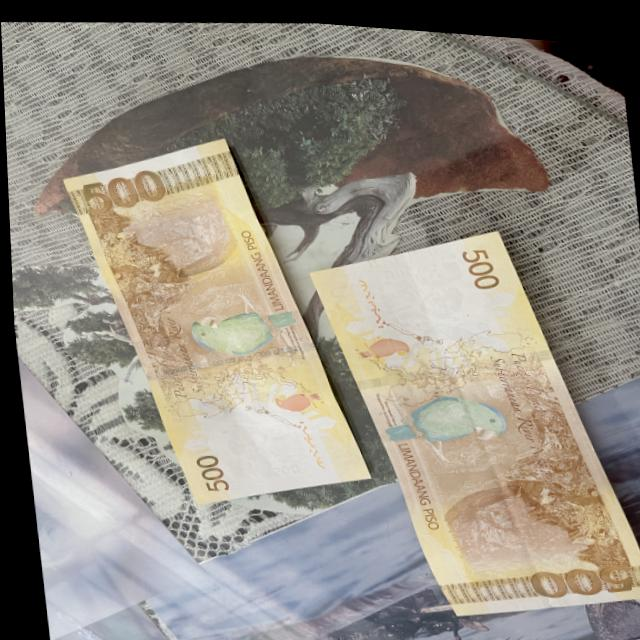500_big_parrot: (173, 290, 305, 367), (377, 381, 509, 444)
500_parrot_watermark: (350, 328, 412, 358), (268, 376, 321, 411)
value_watermark: (377, 255, 411, 275), (264, 457, 297, 475)
watermark: (194, 404, 312, 485), (374, 244, 474, 320)
